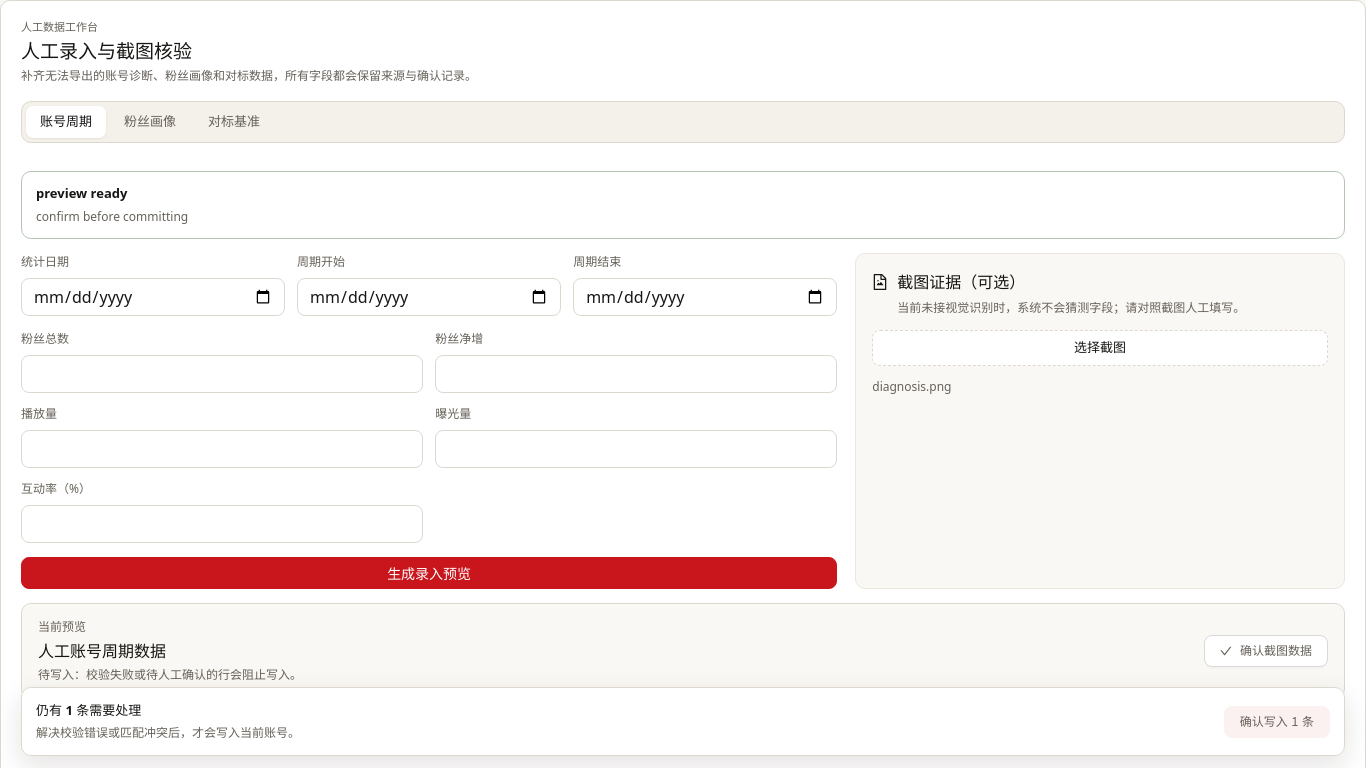
ManualDataEntry › does not carry a previous domain preview into another manual form
The image size is (1366, 768).
Expected: the text "人工账号周期数据" is shown, [38, 640, 166, 662]
Expected: the text "preview ready" is shown, [36, 184, 127, 202]
What coordinates should you click on to do the following:
click the tab "粉丝画像"
I would click on:
 (150, 122)
Its box is [110, 106, 190, 138].
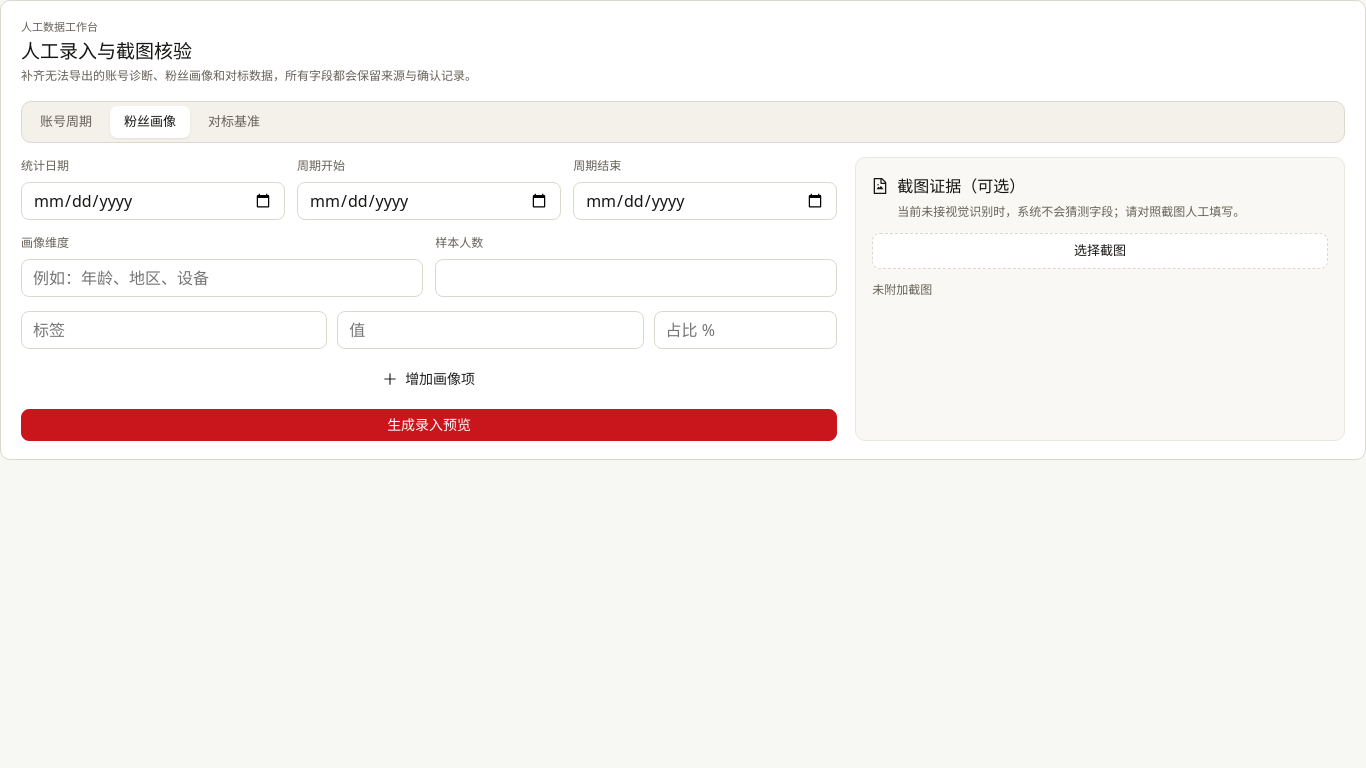
Now the text "人工账号周期数据" is gone
Now the text "preview ready" is gone
